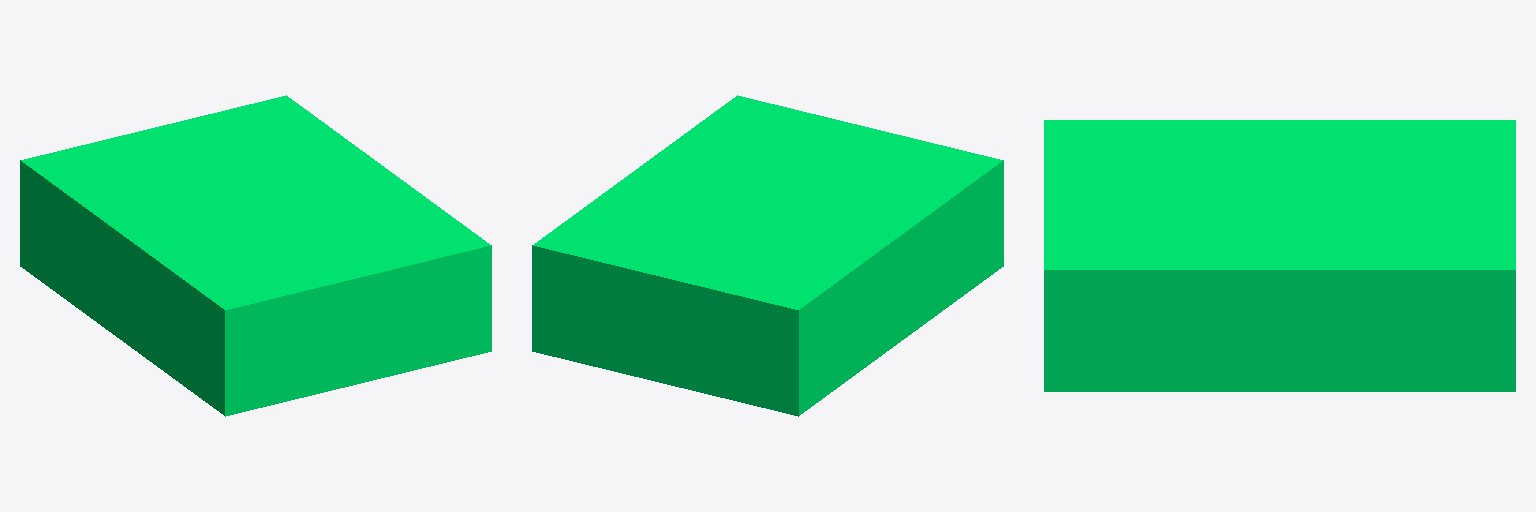
URDF robot description (myfirst):
<?xml version="1.0"?>
 <robot name="myfirst">
   <material name="light_green">
     <color rgba="0 1 0.498 1"/>
   </material>
   <link name="right_leg">
     <visual>
       <geometry>
         <box size="0.16 0.21343700408935547 0.061"/>
       </geometry>
       <material name="light_green"/>
     </visual>
     <inertial>
       <mass value="0"/>
       <inertia ixx="1.0" ixy="0.0" ixz="0.0" iyy="1.0" iyz="0.0" izz="1.0"/>
     </inertial>
   </link>
 </robot>

--- Facts derived from the render (not from the file) ---
Views: 3 orthographic renders of the robot side by side, from view 1: azimuth 30°, elevation 25°; view 2: azimuth 150°, elevation 25°; view 3: azimuth 270°, elevation 25°.
Model myfirst with 1 links and 0 joints (none), rooted at right_leg, posed all joints at 0.
Visible links, largest first — view 1: right_leg; view 2: right_leg; view 3: right_leg.
Boxes of the visible links, x1,y1,x2,y2 form: right_leg: [20, 95, 491, 416]; right_leg: [532, 95, 1003, 416]; right_leg: [1044, 120, 1515, 391].
Size in the robot's own frame: 0.16 by 0.2134 by 0.061 metres.
Geometry: primitives only (box / cylinder / sphere), no mesh files.
